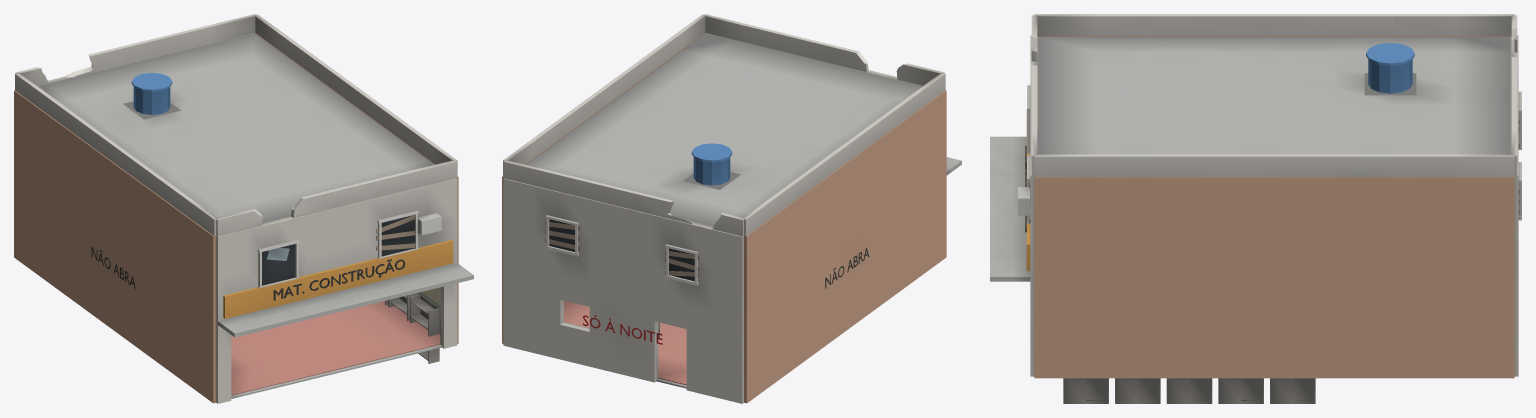
The model's file is sobrado_13.glb.
3 views of the same model, side by side, from view 1: azimuth 30°, elevation 25°; view 2: azimuth 150°, elevation 25°; view 3: azimuth 270°, elevation 25° (orthographic). The views are drawn at different scales.
Visible parts, largest first — view 1: longe, ext, dentro, detalhe; view 2: ext, longe, detalhe, dentro; view 3: ext, longe, dentro, detalhe.
Part boxes in pixels (<box>): longe: <box>15,14,473,337</box>; ext: <box>14,33,458,403</box>; dentro: <box>231,287,442,398</box>; detalhe: <box>91,73,441,288</box>; ext: <box>502,33,946,403</box>; longe: <box>503,14,961,236</box>; detalhe: <box>545,143,869,344</box>; dentro: <box>563,300,686,388</box>; ext: <box>1030,35,1518,378</box>; longe: <box>990,14,1517,281</box>; dentro: <box>1063,378,1315,403</box>; detalhe: <box>1018,43,1521,224</box>.
Size of what is drawn, in the model's own units: 9.23 by 7.82 by 14.4.
